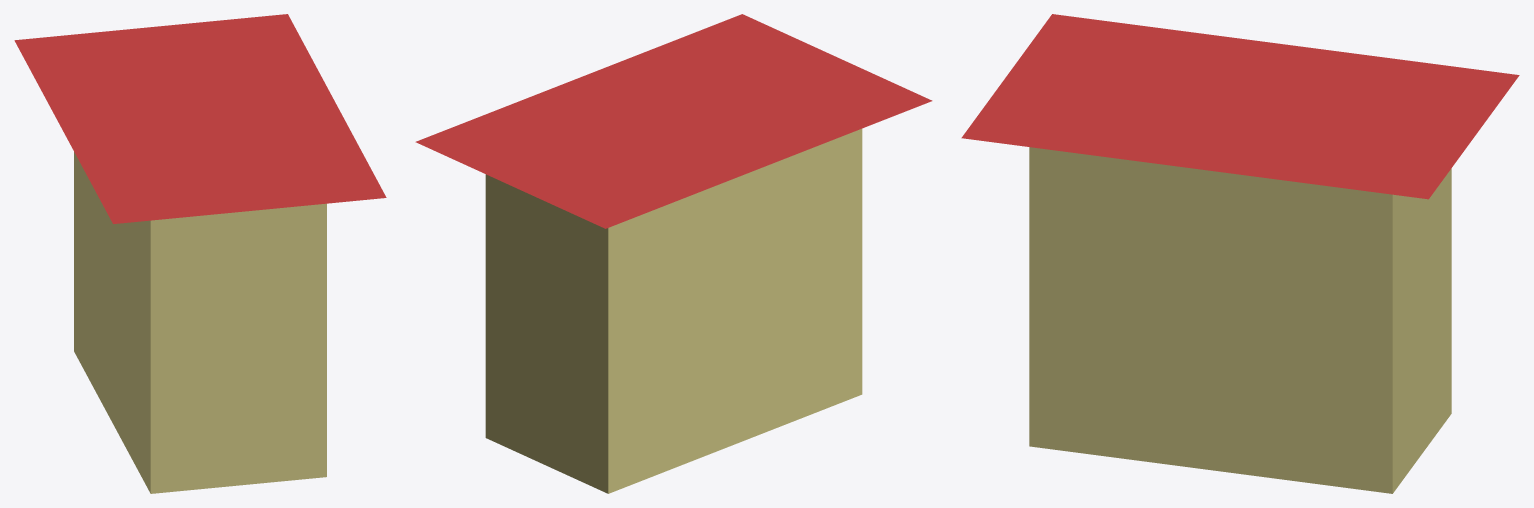
3 views of the same model, side by side, from view 1: azimuth 30°, elevation 25°; view 2: azimuth 150°, elevation 25°; view 3: azimuth 270°, elevation 25° (orthographic). The views are drawn at different scales.
Parts seen in each view (by area): view 1: group_5, group_3, group_4; view 2: group_5, group_3, group_4; view 3: group_5, group_3, group_4.
Part boxes in pixels (x1,y1,x2,y2): group_5: [74, 152, 326, 493]; group_3: [14, 14, 386, 223]; group_4: [15, 14, 385, 223]; group_5: [485, 128, 862, 493]; group_3: [415, 14, 932, 228]; group_4: [416, 14, 930, 228]; group_5: [1029, 147, 1451, 493]; group_3: [961, 14, 1519, 199]; group_4: [962, 14, 1517, 198].
Bounding box in the file's own units: 6.03 × 7.67 × 4.9.
